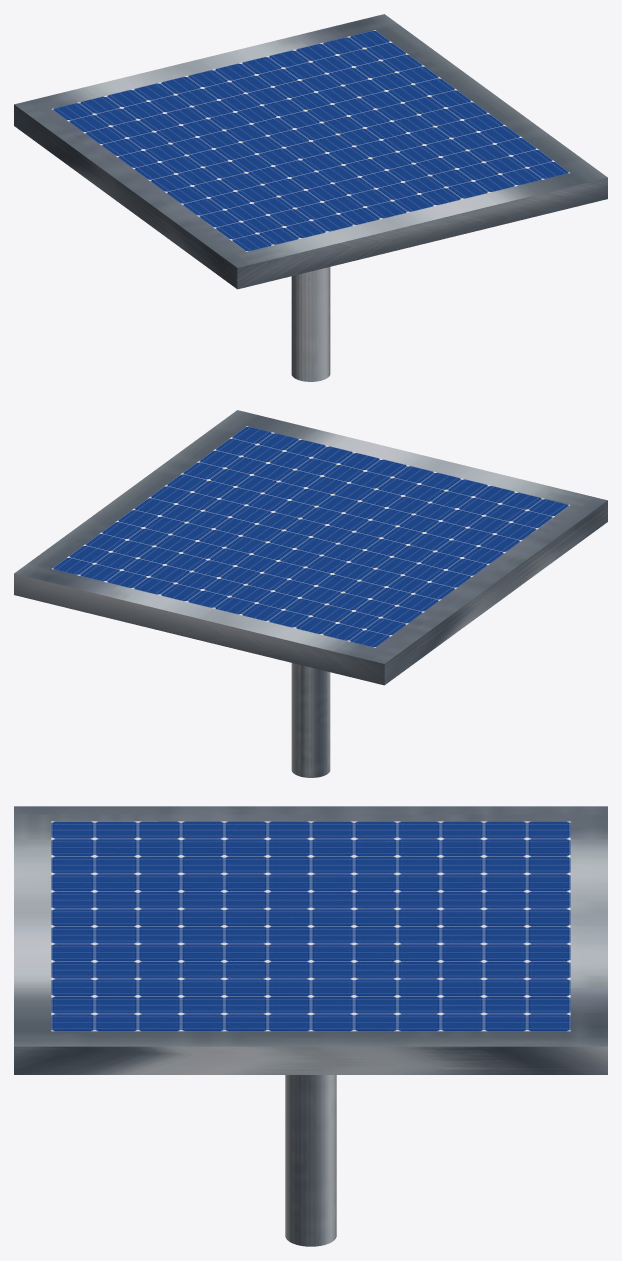
Rendered from solarPanel.fbx.
3 views of the same model, one above another, from view 1: azimuth 30°, elevation 25°; view 2: azimuth 150°, elevation 25°; view 3: azimuth 270°, elevation 25° (orthographic). The views are drawn at different scales.
Parts seen in each view (by area): view 1: Panel, Stand; view 2: Panel, Stand; view 3: Panel, Stand.
Boxes of the visible parts, <box> form: Panel: <box>14,14,607,289</box>; Stand: <box>291,267,330,381</box>; Panel: <box>14,410,607,685</box>; Stand: <box>291,663,330,777</box>; Panel: <box>14,806,607,1074</box>; Stand: <box>285,1075,336,1246</box>.
Size of the model in its own units: 360 by 216 by 376.
